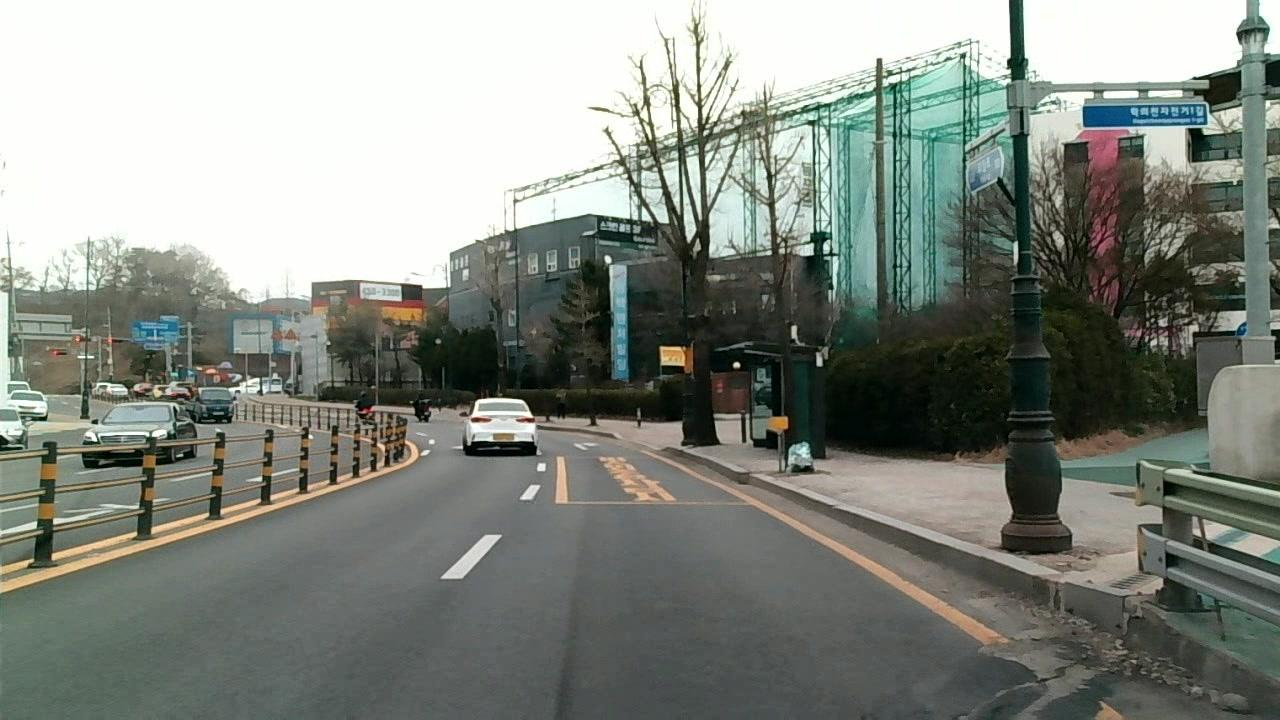trash: (783, 438, 819, 471)
vcrack: (976, 641, 1088, 718)
